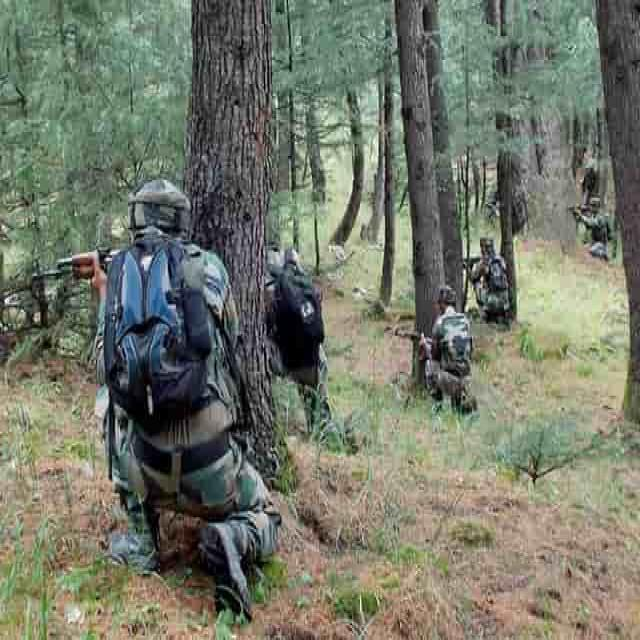Forest: (0, 4, 640, 640)
Militant: (72, 135, 290, 625), (263, 212, 348, 448), (410, 275, 492, 417), (563, 141, 622, 283), (461, 222, 519, 331)
